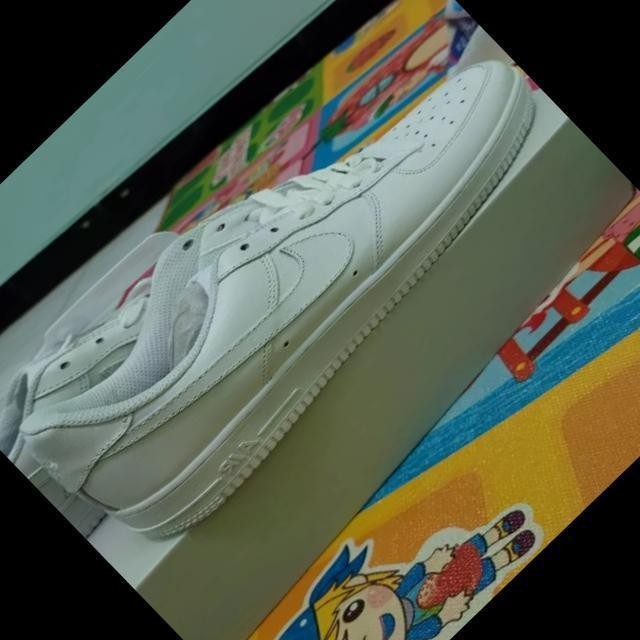nike original air force: (0, 0, 591, 587)
